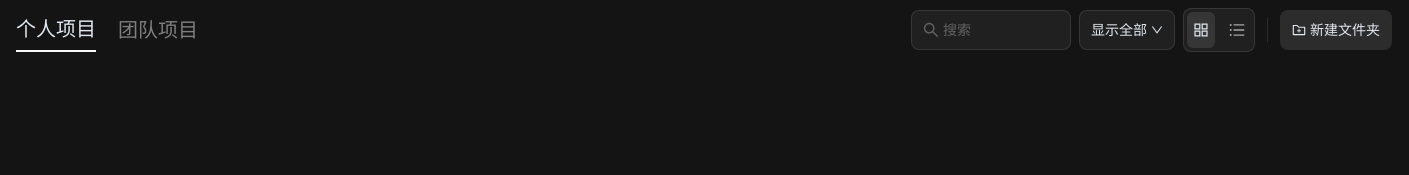
Test: WorkspaceToolbar › 筛选菜单三种选项
Click the button "显示全部" at coordinates (1127, 30), box [1079,10,1175,50]
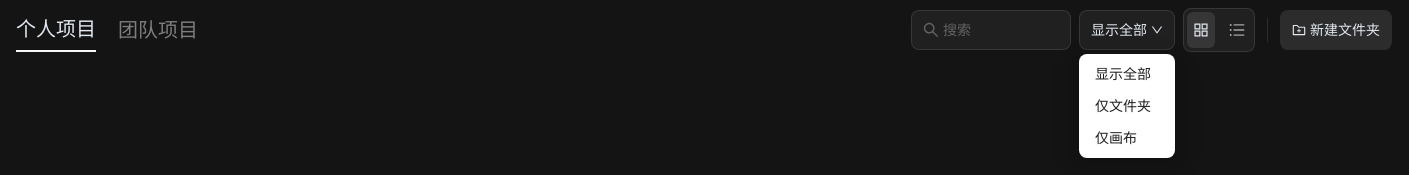
Expected: the text "仅文件夹" is shown, [1095,95,1159,117]
Expected: the text "仅画布" is shown, [1095,129,1137,146]
